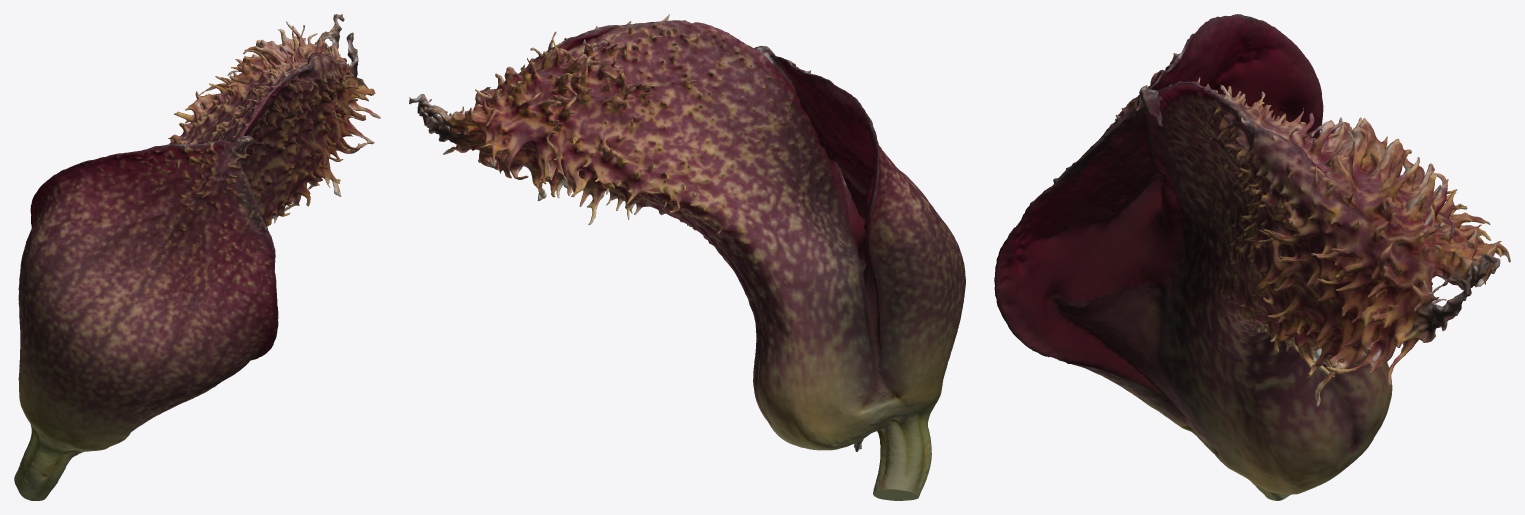
File: bulbophyllum-phalaenopsis.glb
3 views of the same model, side by side, from view 1: azimuth 30°, elevation 25°; view 2: azimuth 150°, elevation 25°; view 3: azimuth 270°, elevation 25° (orthographic). The views are drawn at different scales.
Size of the model in its own units: 1.13 by 1.01 by 0.8186.
Materials: 2 (1 with a texture image).
